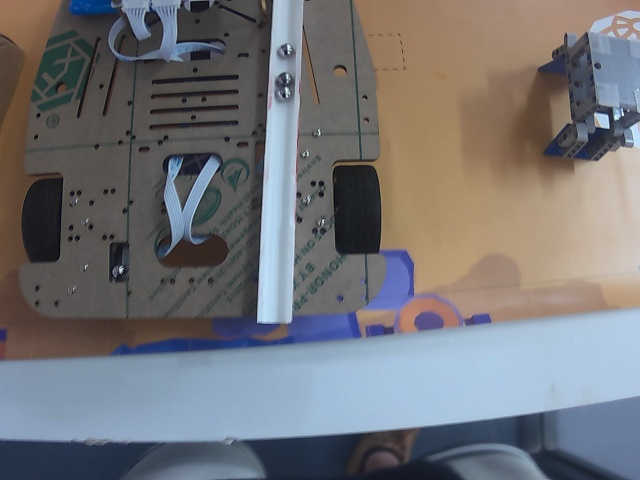steelball: (277, 43, 294, 60), (274, 85, 291, 101), (277, 72, 292, 87)
